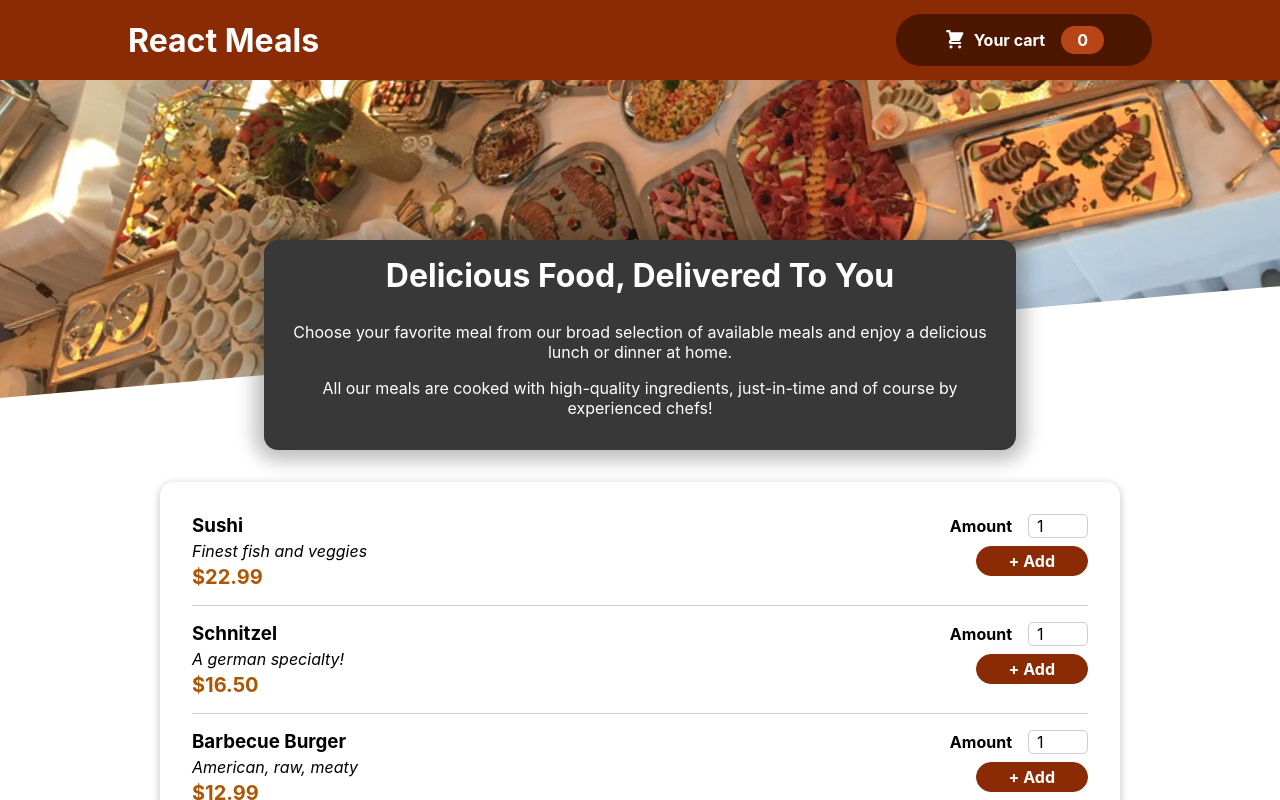
Test: shows modal windown then closes it by clicking the modal backdrop
The image size is (1280, 800).
Click the button "Your cart 0" at [1024, 40], box 896,14 -> 1152,66
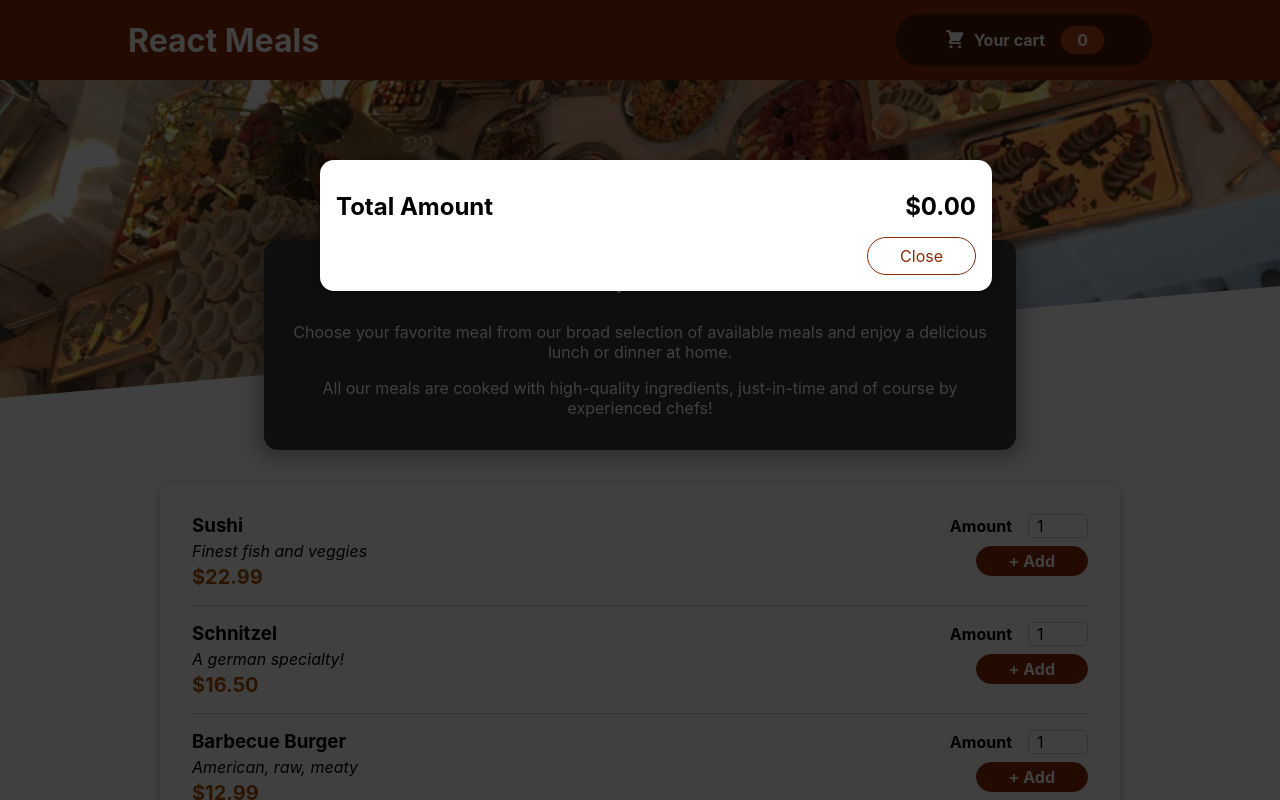
Now the text "Total Amount" is shown, box 336,192 -> 493,221
Click the element with id "backdrop" at [640, 400], box 0,0 -> 1279,799
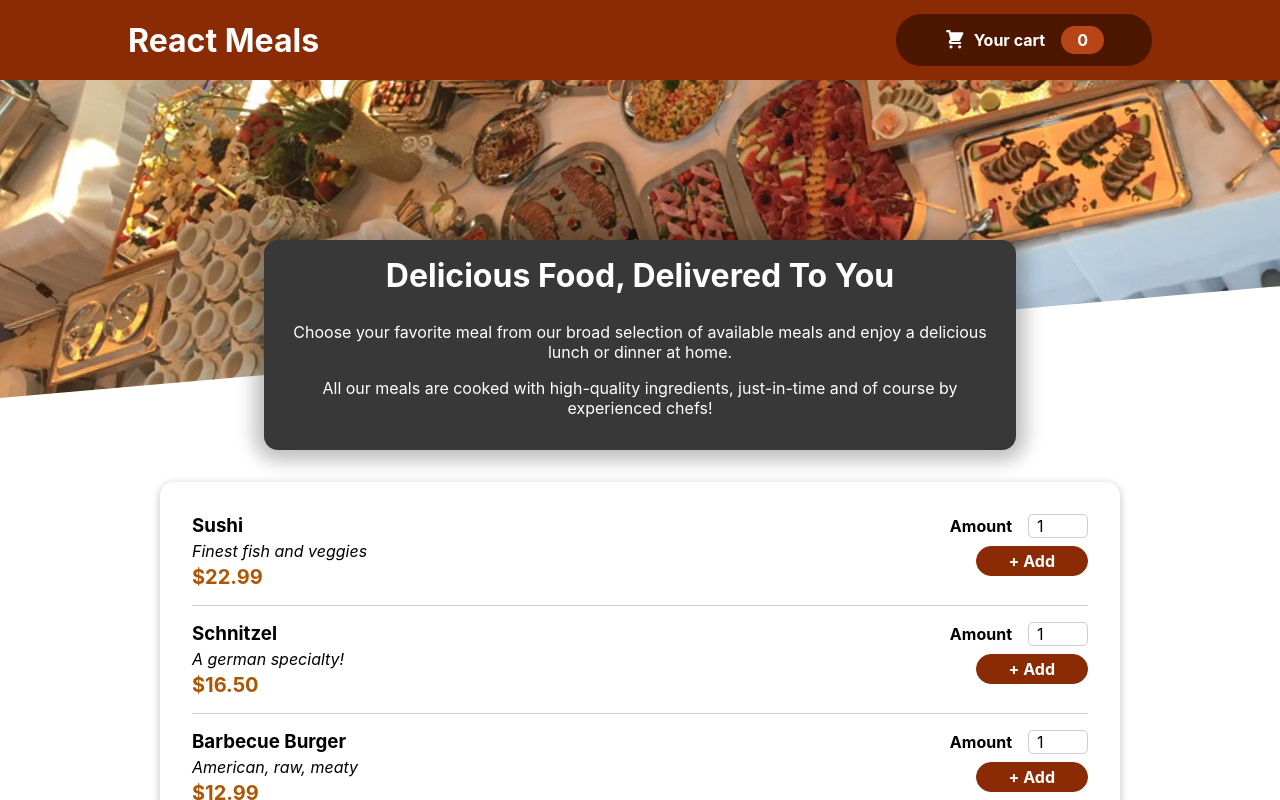
Now the text "Total Amount" is gone
